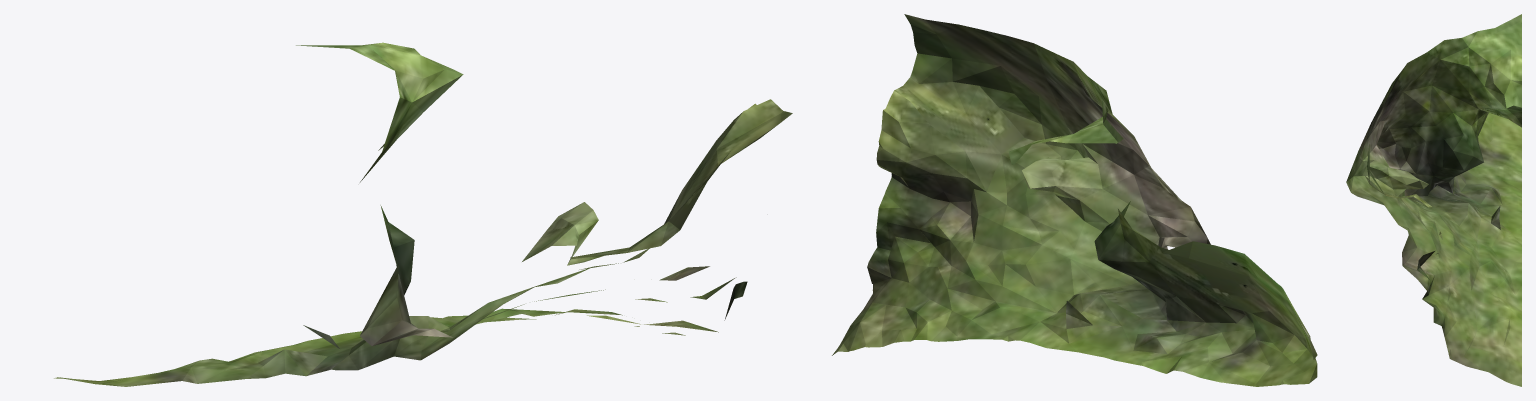
The picture shows the model from 3 angles, left to right: view 1: azimuth 30°, elevation 25°; view 2: azimuth 150°, elevation 25°; view 3: azimuth 270°, elevation 25°; orthographic projection. The views are drawn at different scales.
Bounding box in the file's own units: 23.16 × 13.16 × 8.39.
Materials: 2 (2 with a texture image).
